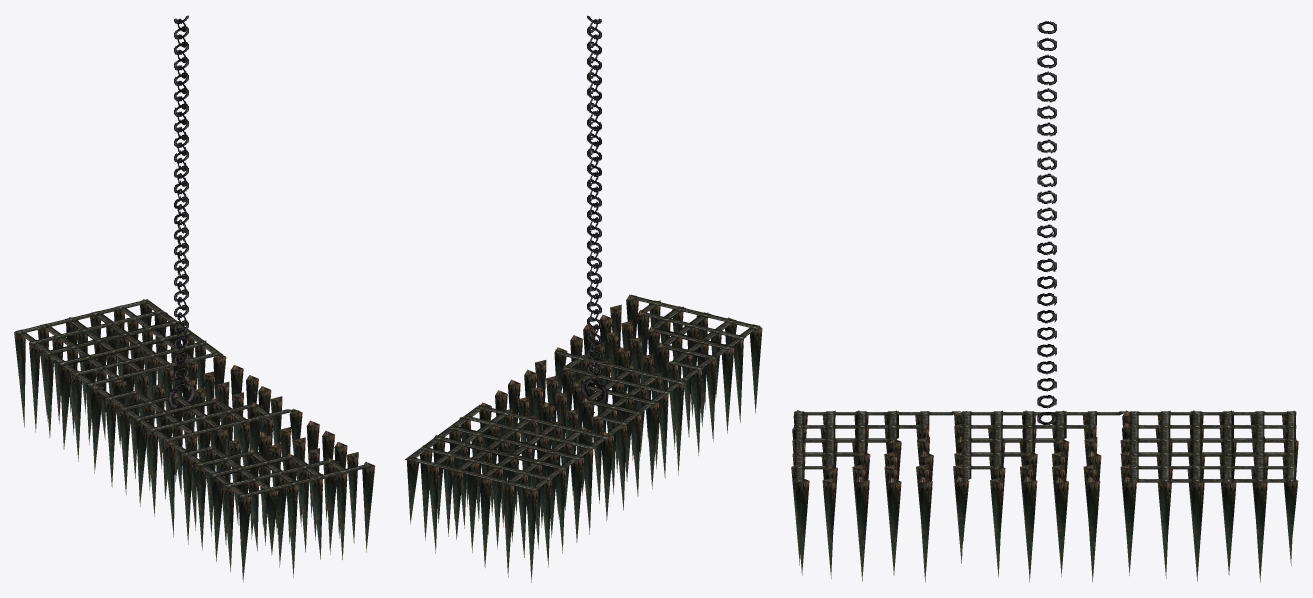
The model's file is EVT_ADDON_LSTTEMP_FALLSPIKES_01.glb.
The picture shows the model from 3 angles, left to right: view 1: azimuth 30°, elevation 25°; view 2: azimuth 150°, elevation 25°; view 3: azimuth 270°, elevation 25°; orthographic projection. The views are drawn at different scales.
Visible parts, largest first — view 1: Mesh; view 2: Mesh; view 3: Mesh.
Part boxes in pixels (<box>): Mesh: <box>14,15,375,582</box>; Mesh: <box>405,15,762,582</box>; Mesh: <box>791,21,1298,582</box>.
Size of the model in its own units: 2.29 by 7.67 by 6.66.
3 materials, 3 textured.
